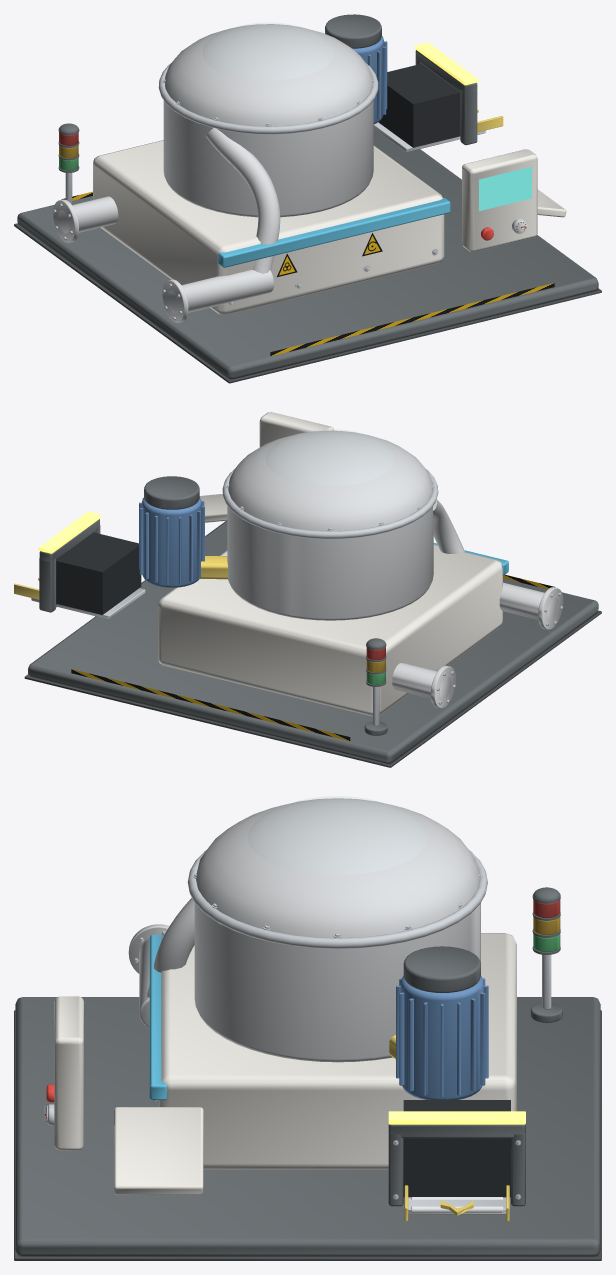
Rendered from centrifuga_ind.glb.
3 views of the same model, one above another, from view 1: azimuth 30°, elevation 25°; view 2: azimuth 150°, elevation 25°; view 3: azimuth 270°, elevation 25° (orthographic). The views are drawn at different scales.
Visible parts, largest first — view 1: zocalo, bastidor, cuba_cupula, cuba, mirilla, boca_salida_hueco, cuadro, bastidor_franja, entrada_subida, entrada_tubo, zocalo_goma, cuba_aro (+12 smaller); view 2: bastidor, zocalo, cuba, cuba_cupula, mirilla, boca_salida_hueco, motor, zocalo_goma, cuba_aro, motor_ventilador, franja1, entrada_tubo (+11 smaller); view 3: zocalo, bastidor, cuba_cupula, cuba, mirilla, salida_rampa, boca_salida_hueco, motor, cuadro, cuba_aro, zocalo_goma, motor_ventilador (+9 smaller).
Part boxes in pixels (bbox=[...]): zocalo: bbox=[17, 129, 598, 379]; bastidor: bbox=[93, 140, 444, 314]; cuba_cupula: bbox=[165, 24, 372, 126]; cuba: bbox=[163, 100, 373, 217]; mirilla: bbox=[203, 23, 333, 79]; boca_salida_hueco: bbox=[378, 64, 460, 147]; cuadro: bbox=[462, 149, 537, 251]; bastidor_franja: bbox=[218, 198, 450, 267]; entrada_subida: bbox=[206, 128, 280, 273]; entrada_tubo: bbox=[167, 269, 274, 313]; zocalo_goma: bbox=[14, 223, 601, 383]; cuba_aro: bbox=[158, 63, 378, 134]; bastidor: bbox=[158, 544, 502, 716]; zocalo: bbox=[28, 520, 598, 763]; cuba: bbox=[227, 506, 433, 620]; cuba_cupula: bbox=[228, 430, 432, 531]; mirilla: bbox=[266, 429, 394, 485]; boca_salida_hueco: bbox=[56, 532, 141, 614]; motor: bbox=[142, 497, 201, 587]; zocalo_goma: bbox=[24, 610, 601, 767]; cuba_aro: bbox=[222, 469, 438, 538]; motor_ventilador: bbox=[144, 476, 199, 509]; franja1: bbox=[71, 669, 350, 741]; entrada_tubo: bbox=[499, 582, 558, 620]; zocalo: bbox=[15, 997, 600, 1256]; bastidor: bbox=[158, 933, 516, 1169]; cuba_cupula: bbox=[196, 798, 479, 938]; cuba: bbox=[194, 903, 480, 1062]; mirilla: bbox=[248, 796, 427, 874]; salida_rampa: bbox=[114, 1107, 203, 1194]; boca_salida_hueco: bbox=[403, 1100, 510, 1197]; motor: bbox=[400, 976, 483, 1099]; cuadro: bbox=[54, 996, 83, 1150]; cuba_aro: bbox=[187, 850, 487, 948]; zocalo_goma: bbox=[14, 1010, 601, 1260]; motor_ventilador: bbox=[403, 946, 480, 992].
Size of the model in its own units: 2.23 by 1.17 by 1.97.
25 materials, 3 textured.
